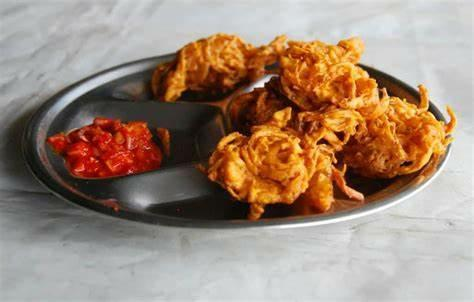OnionPakoda: (150, 19, 456, 212)
